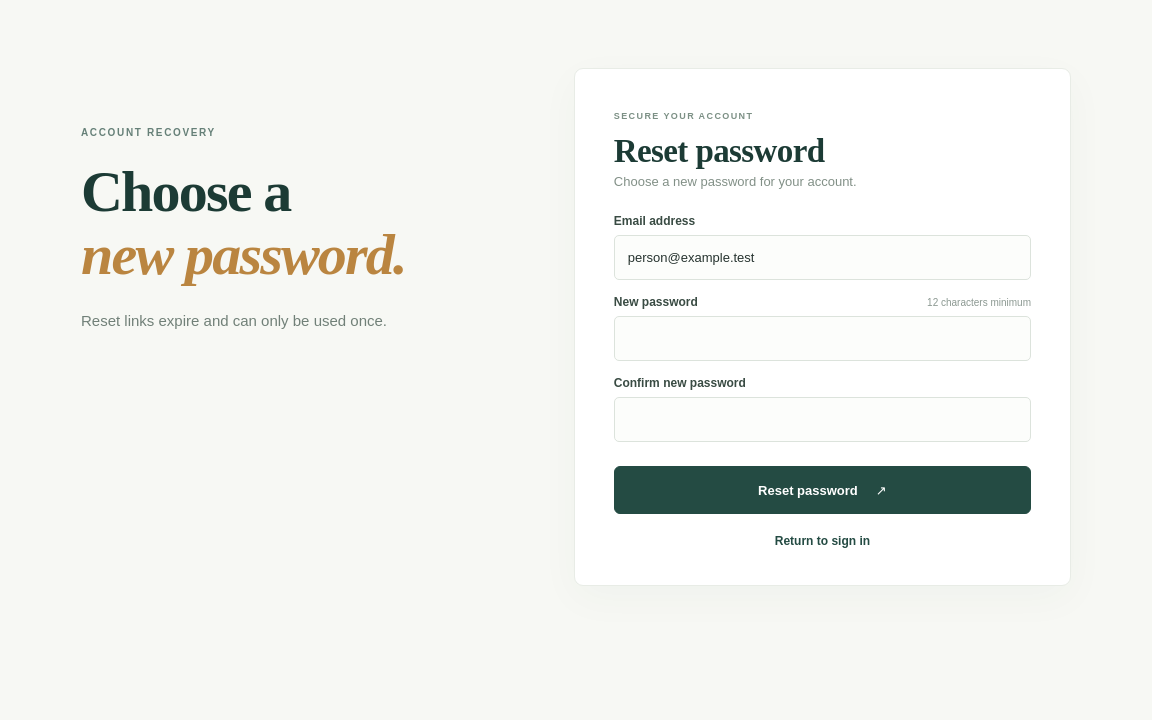
Test: password recovery pages › shows a friendly message when the backend rejects an invalid or expired token
Type "A-new-secure-password-123" into the password field labelled "New password 12 characters minimum" at [822, 338], box [614, 316, 1031, 361]
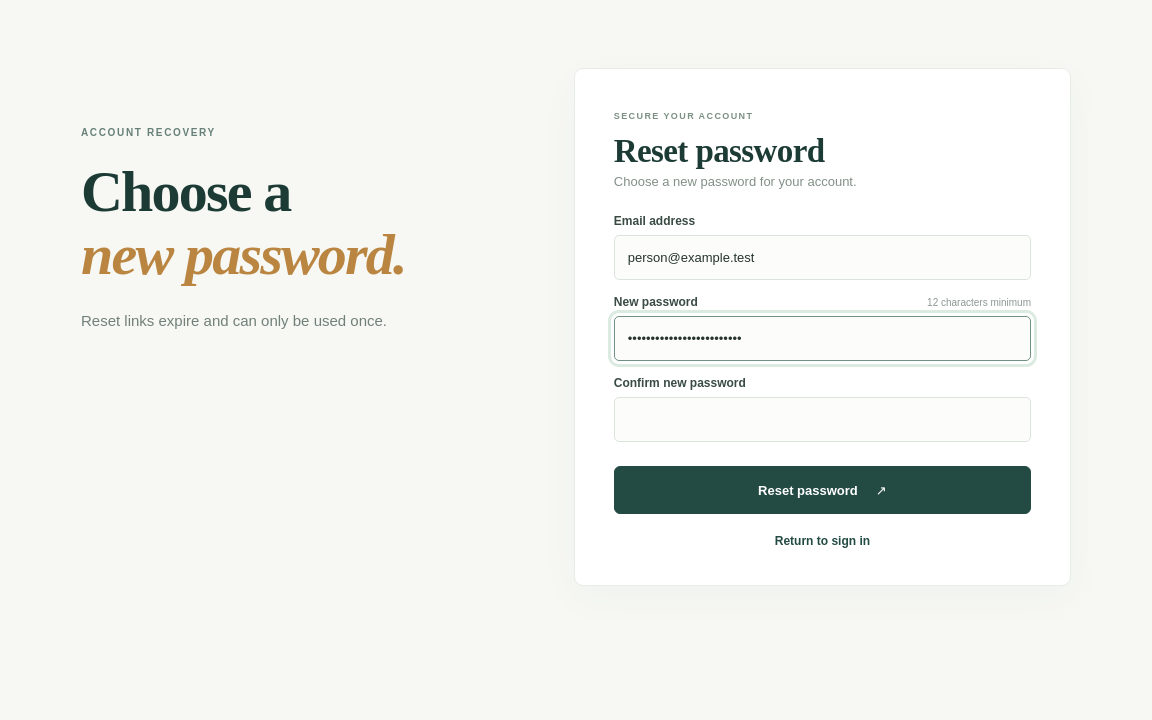
Type "A-new-secure-password-123" into the password field labelled "Confirm new password" at [822, 420], box [614, 397, 1031, 442]
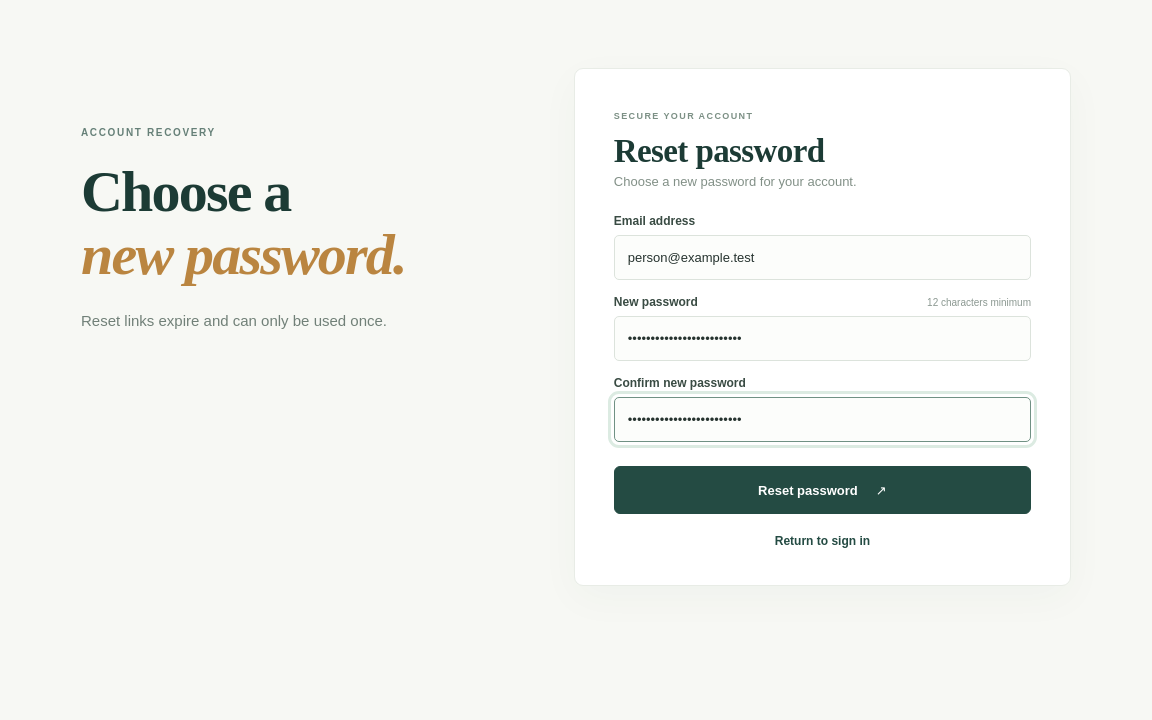
Click the button "Reset password ↗" at [822, 490], box [614, 466, 1031, 514]
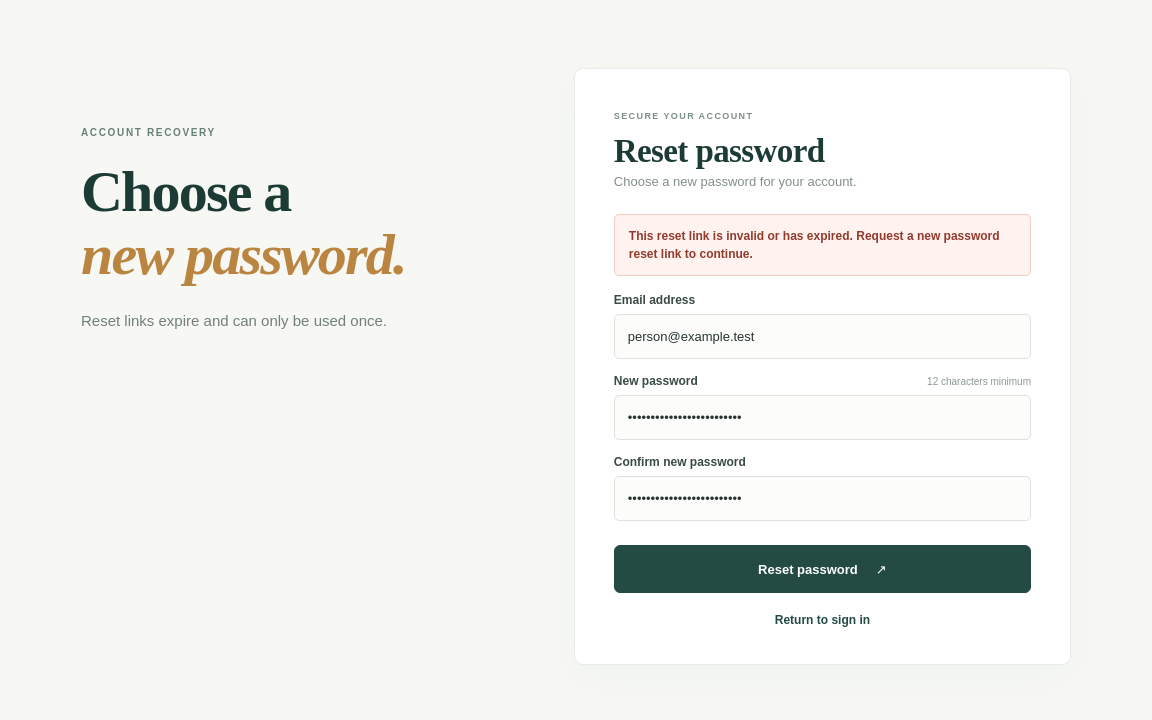
expect the message shows "invalid or has expired": met, box [629, 229, 1000, 261]
